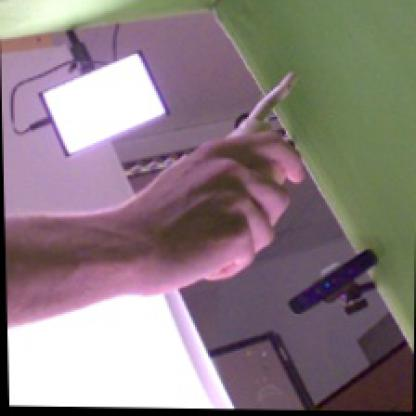Hand: (132, 129, 305, 283)
